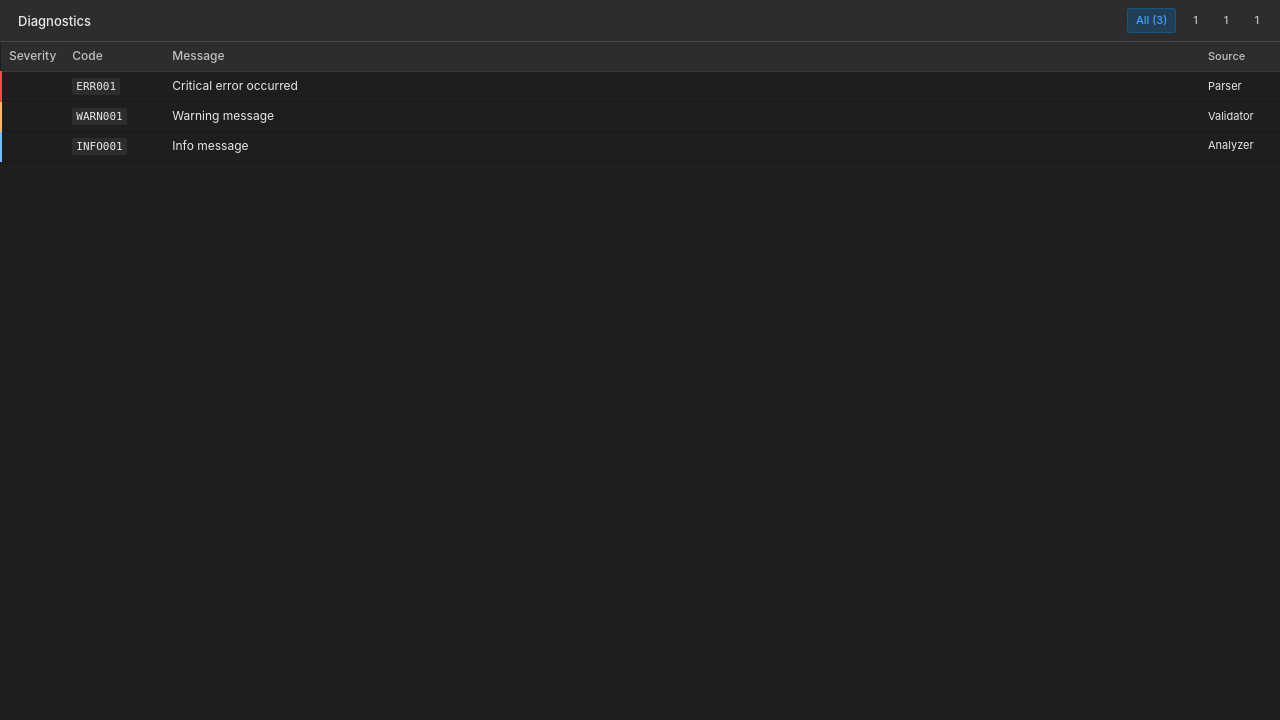
DiagnosticsPanel › should show diagnostic details when selected
Click the text "Critical error occurred".
click(640, 87)  # box [1,72,1279,102]
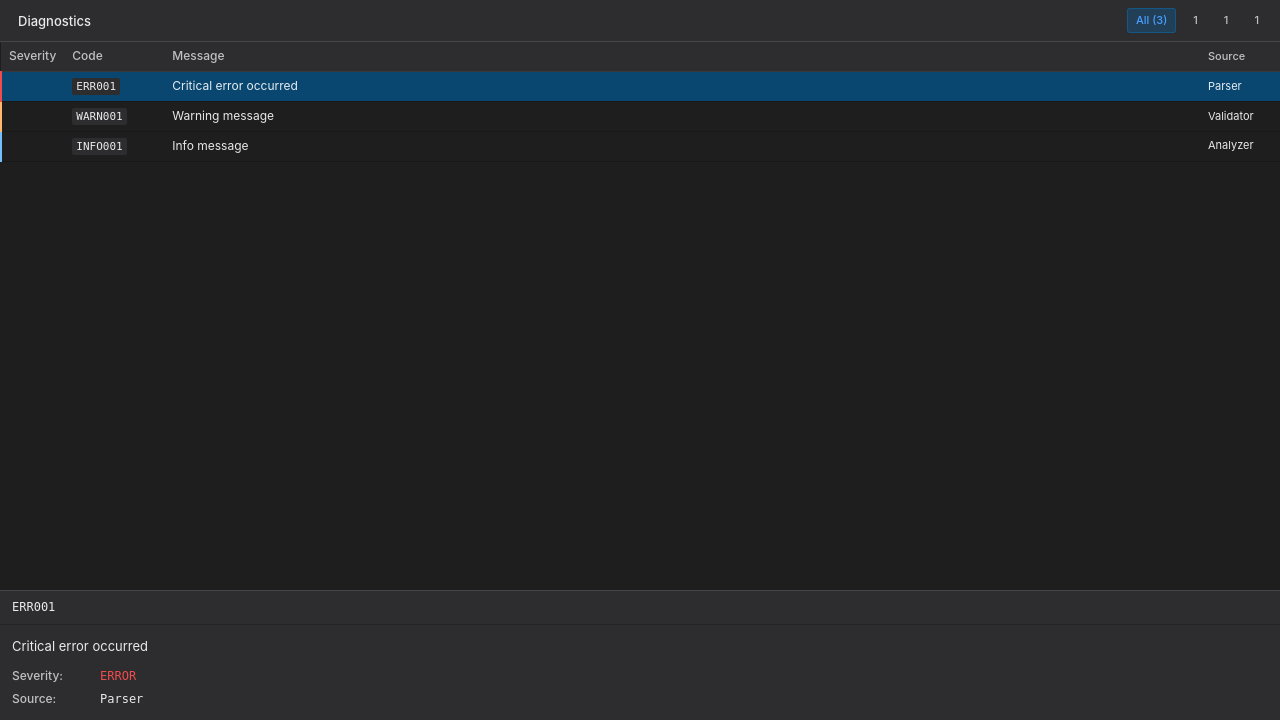
Check: the text "ERR001" below "Code" is shown, box [76,80,116,93]
Check: the element with class "diagnostics-details" is shown, box [0,590,1279,719]
